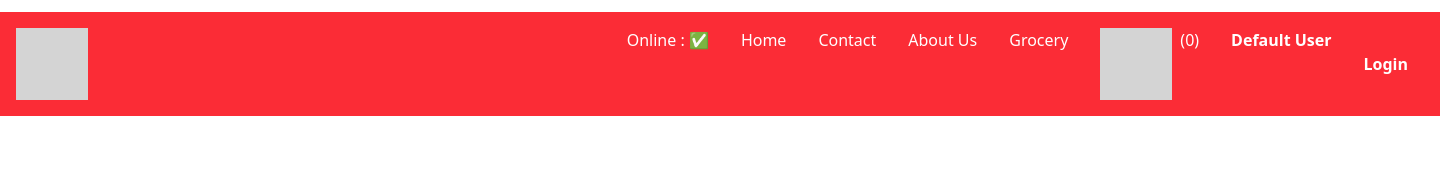
Test: Header Component › should change to Logout when Login is clicked
The width and height of the screenshot is (1440, 172).
Click the button "Login": (1386, 64) [1348, 12, 1424, 116]
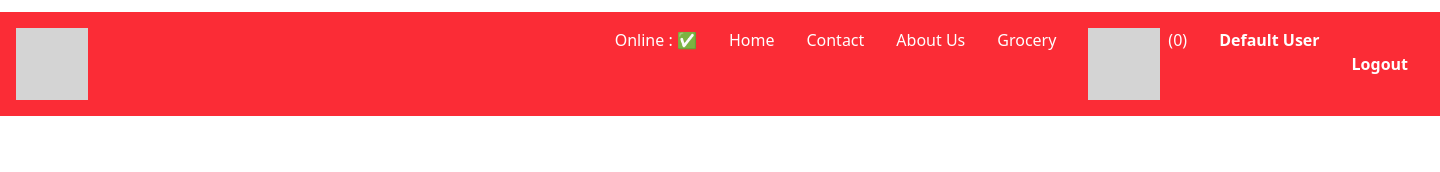
Now the button "Logout" is shown, box [1336, 12, 1424, 116]
